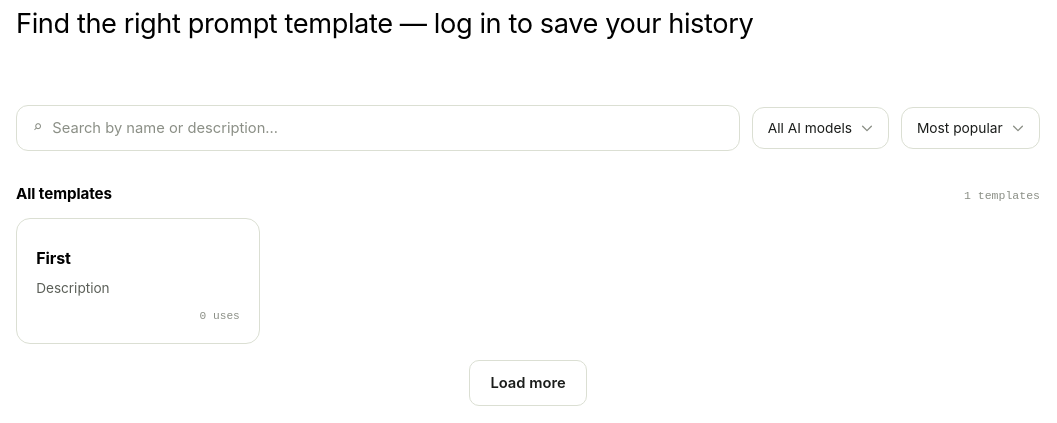
CatalogPage › shows "Load more" while more pages remain, and hides it once exhausted
This screenshot has width=1057, height=423.
Click the button "Load more": point(528, 383) [469, 360, 587, 406]
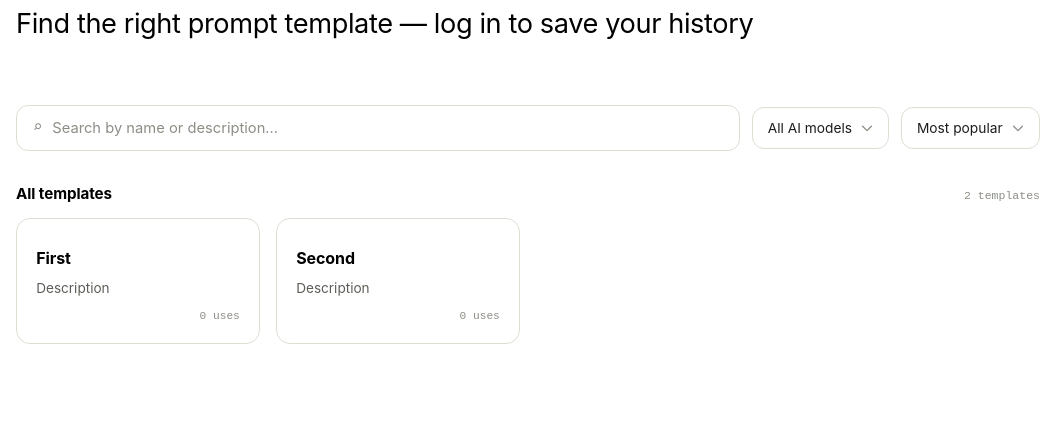
Result: the button "Load more" is gone
